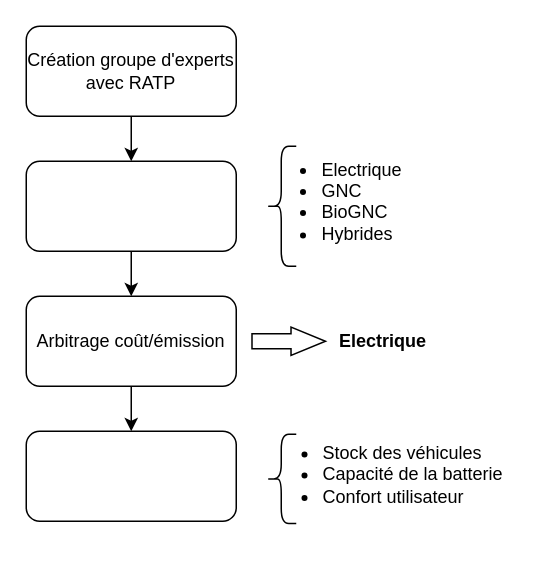
Some shapes in this 542 by 572 pixel diagram are drawn without their labels. The centre of each missing label's shape, as x and y in pixels:
"Comparaison différentes technologies possibles" goes at (x=130, y=205).
"Etude de faisabilité" goes at (x=130, y=475).
